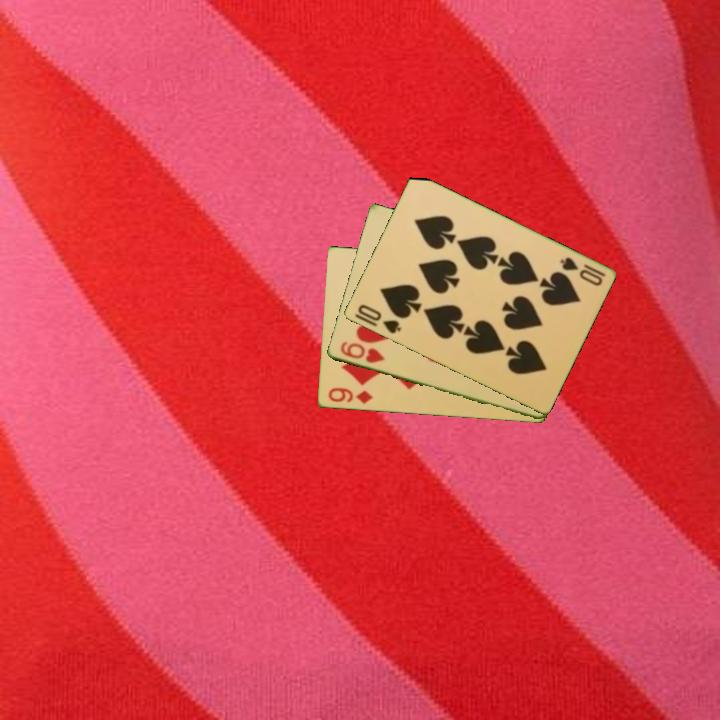10s: (556, 253, 608, 289), (354, 301, 404, 337)
6h: (336, 338, 387, 366)
9d: (325, 384, 375, 407)
